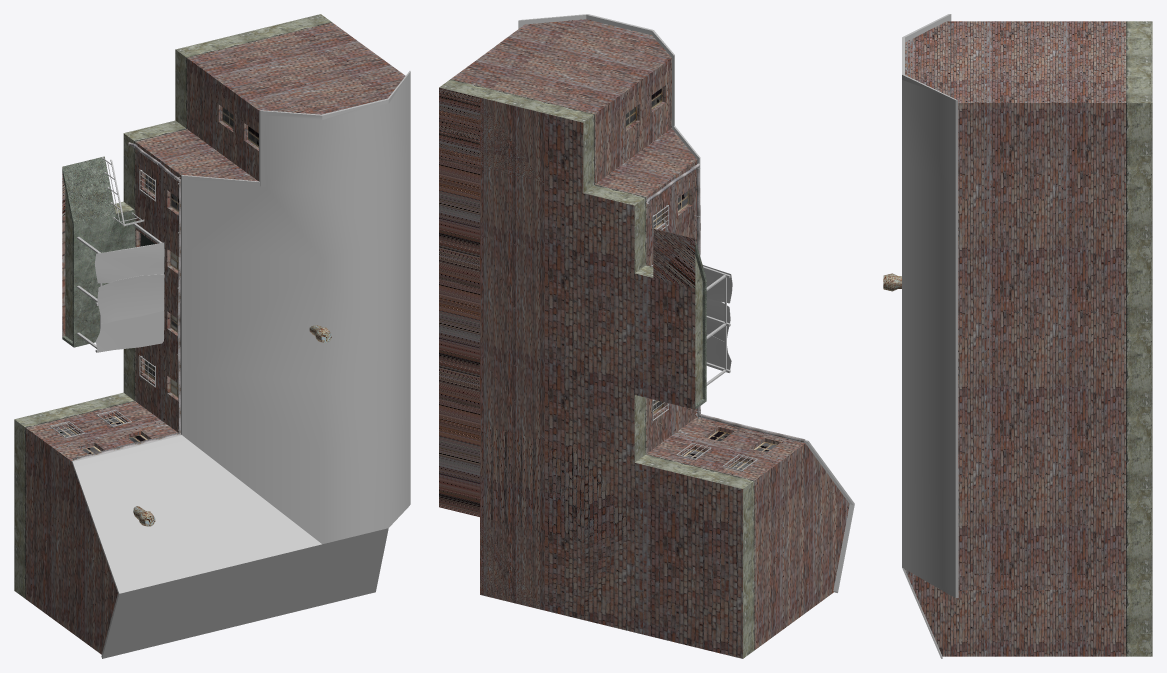
The model's file is house2.fbx.
3 renders of one model, left to right at view 1: azimuth 30°, elevation 25°; view 2: azimuth 150°, elevation 25°; view 3: azimuth 270°, elevation 25°, orthographic. The views are drawn at different scales.
Parts seen in each view (by area): view 1: MDL-Box012, MDL-Cyli18; view 2: MDL-Box012; view 3: MDL-Box012.
Boxes of the visible parts, left/top/right/bottom form: MDL-Box012: left=14, top=14, right=410, bottom=658; MDL-Cyli18: left=177, top=182, right=180, bottom=434; MDL-Box012: left=439, top=14, right=854, bottom=658; MDL-Box012: left=902, top=14, right=1152, bottom=658.
Size of the model in its own units: 28.7 by 44.06 by 18.48.
